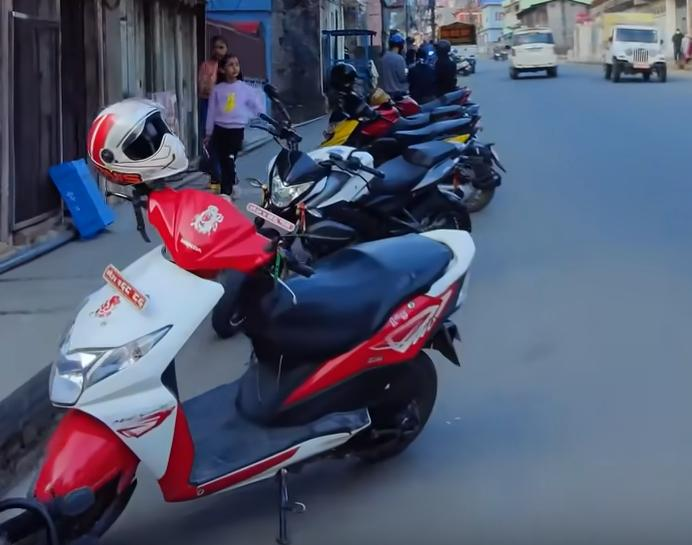SUV: (507, 25, 561, 84)
scooter: (37, 172, 489, 525)
transport_vehicle: (596, 12, 666, 86), (439, 19, 479, 71)
